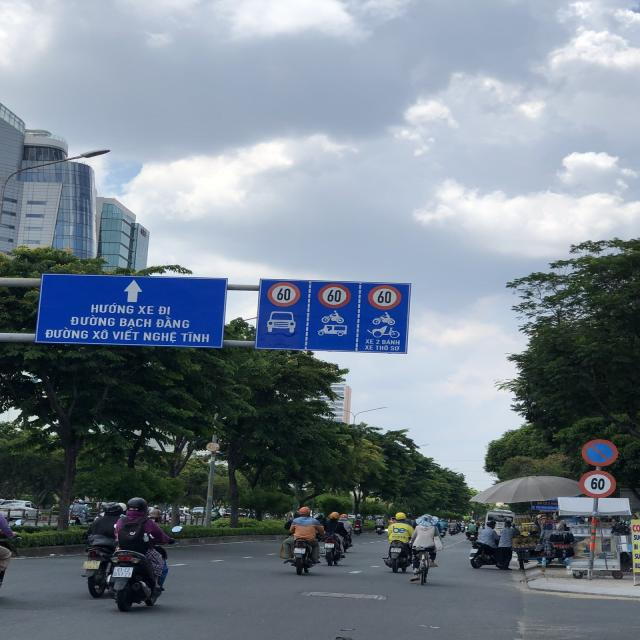Bien bao cam do xe: (578, 436, 622, 468)
Bien bao toc do toi da cho phep: (263, 278, 305, 308), (578, 469, 618, 500), (315, 280, 354, 310), (366, 282, 405, 312)
